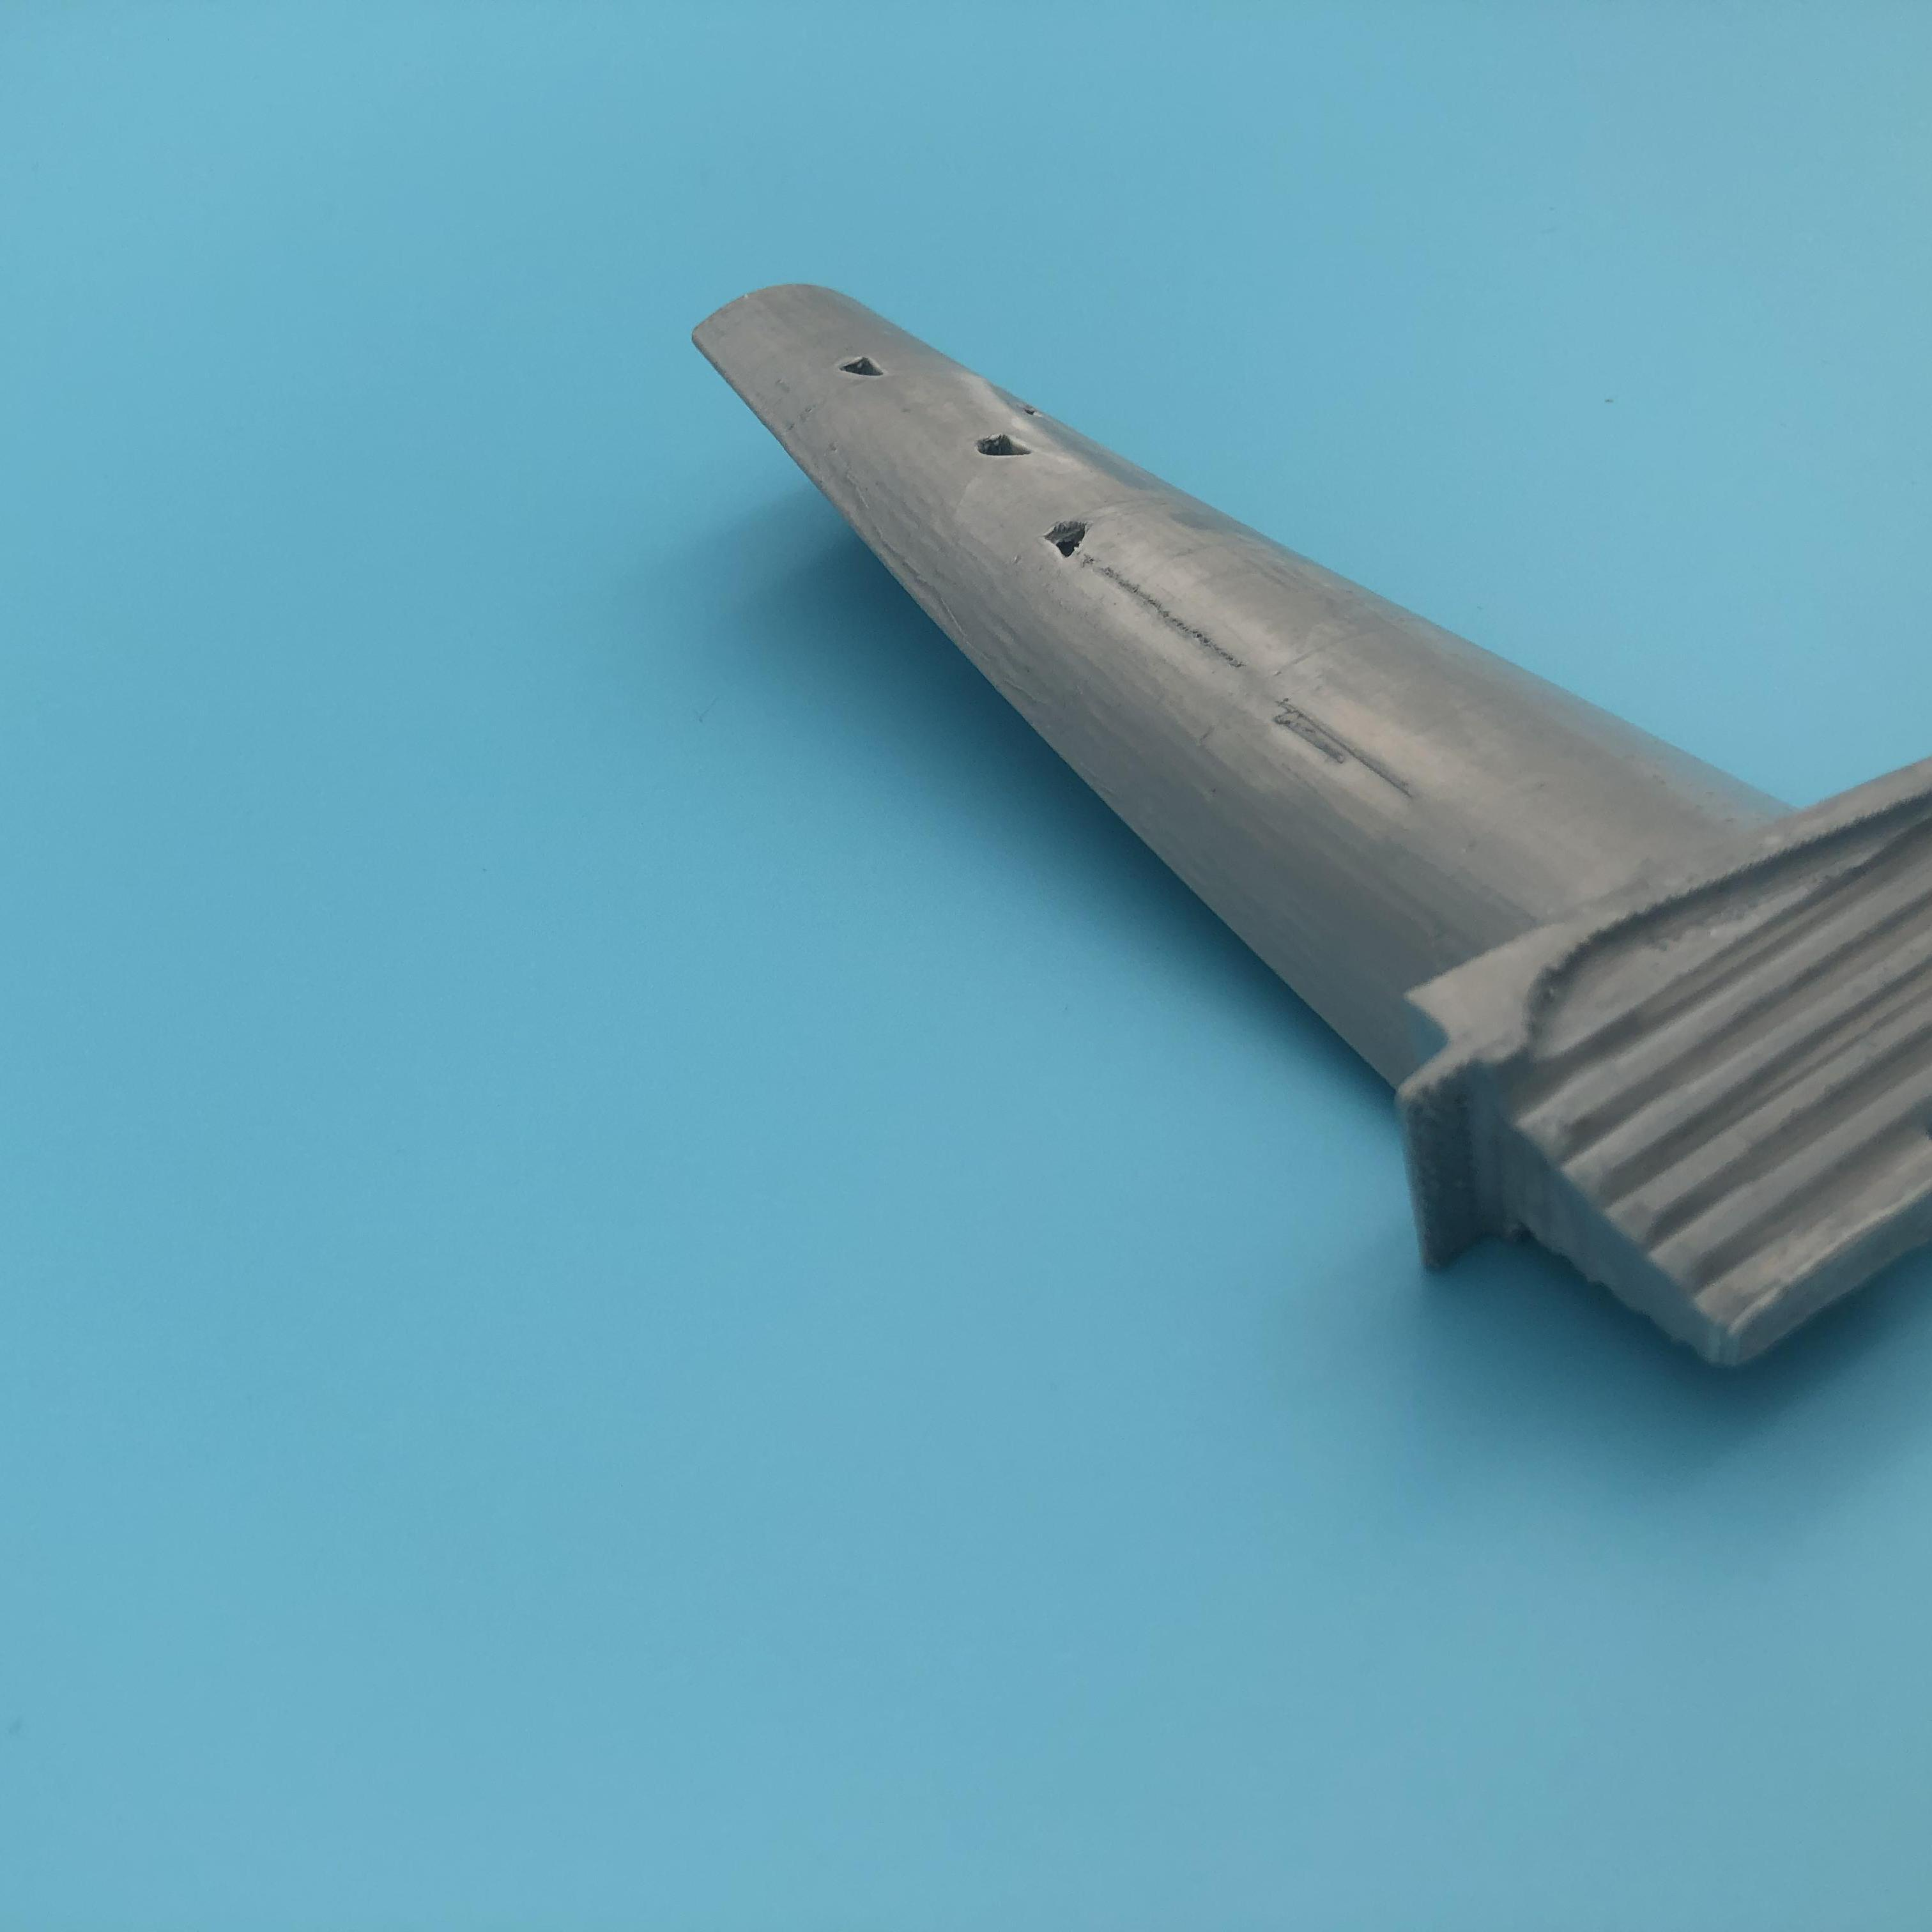breakdown: (846, 340, 1086, 552)
